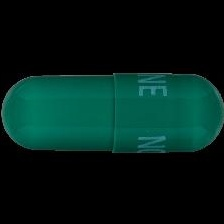0591-5789: (0, 0, 224, 224)
